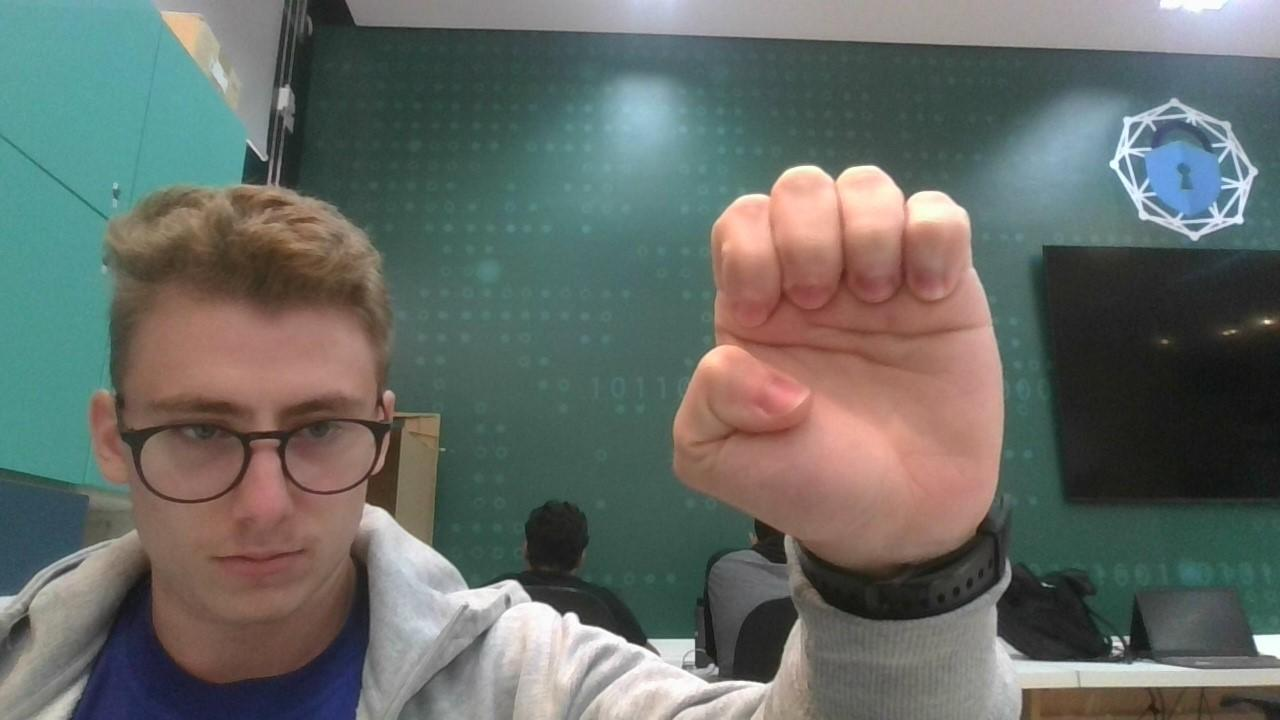E: (632, 140, 1060, 618)
